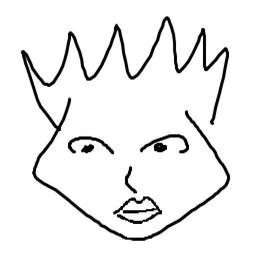cupid_mouth: (111, 197, 164, 226)
eye: (135, 130, 193, 160), (64, 136, 116, 160)
pointy_nose: (122, 165, 142, 195)
